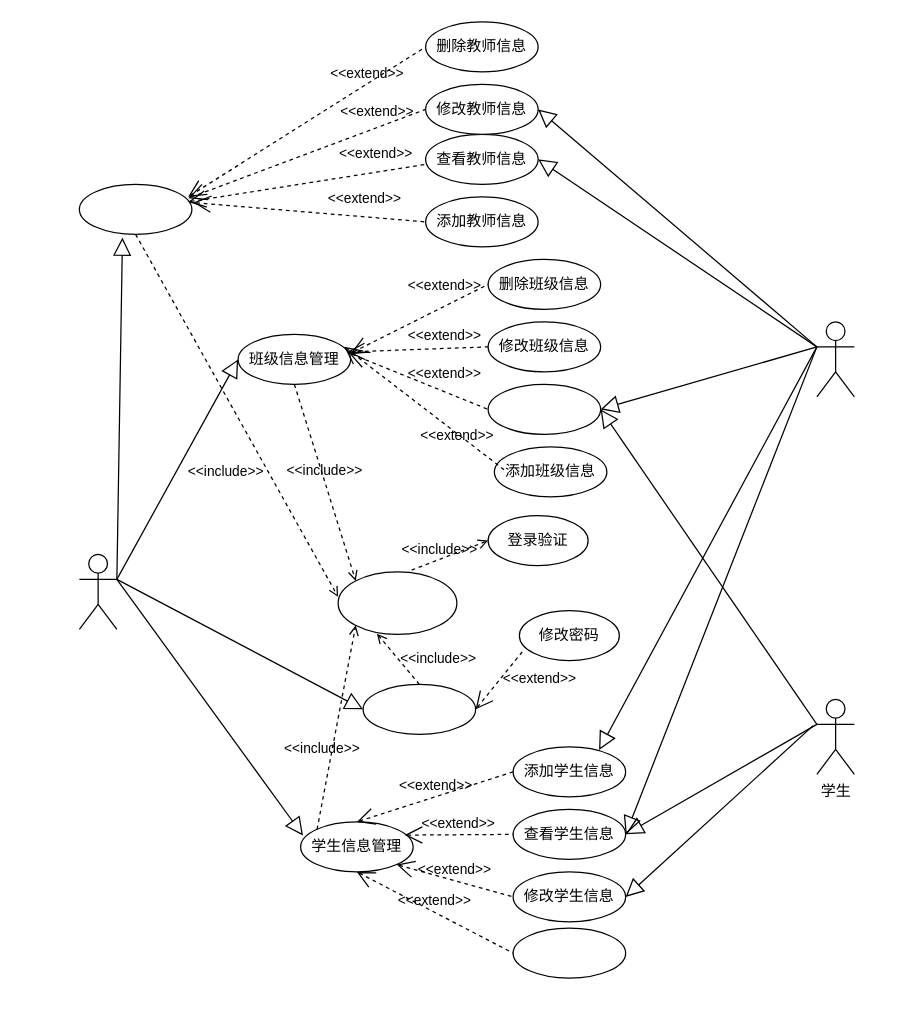
This 908x1036 diagram has some shape labels left out. The centre of each missing label's shape, as x and y in pixels:
"删除学生信息" goes at pixel 569 952.
"教师" goes at pixel 835 359.
"教师信息管理" goes at pixel 135 208.
"查看班级信息" goes at pixel 544 408.
"登录" goes at pixel 397 602.
"系统管理" goes at pixel 419 708.
"系统管理员" goes at pixel 97 591.
